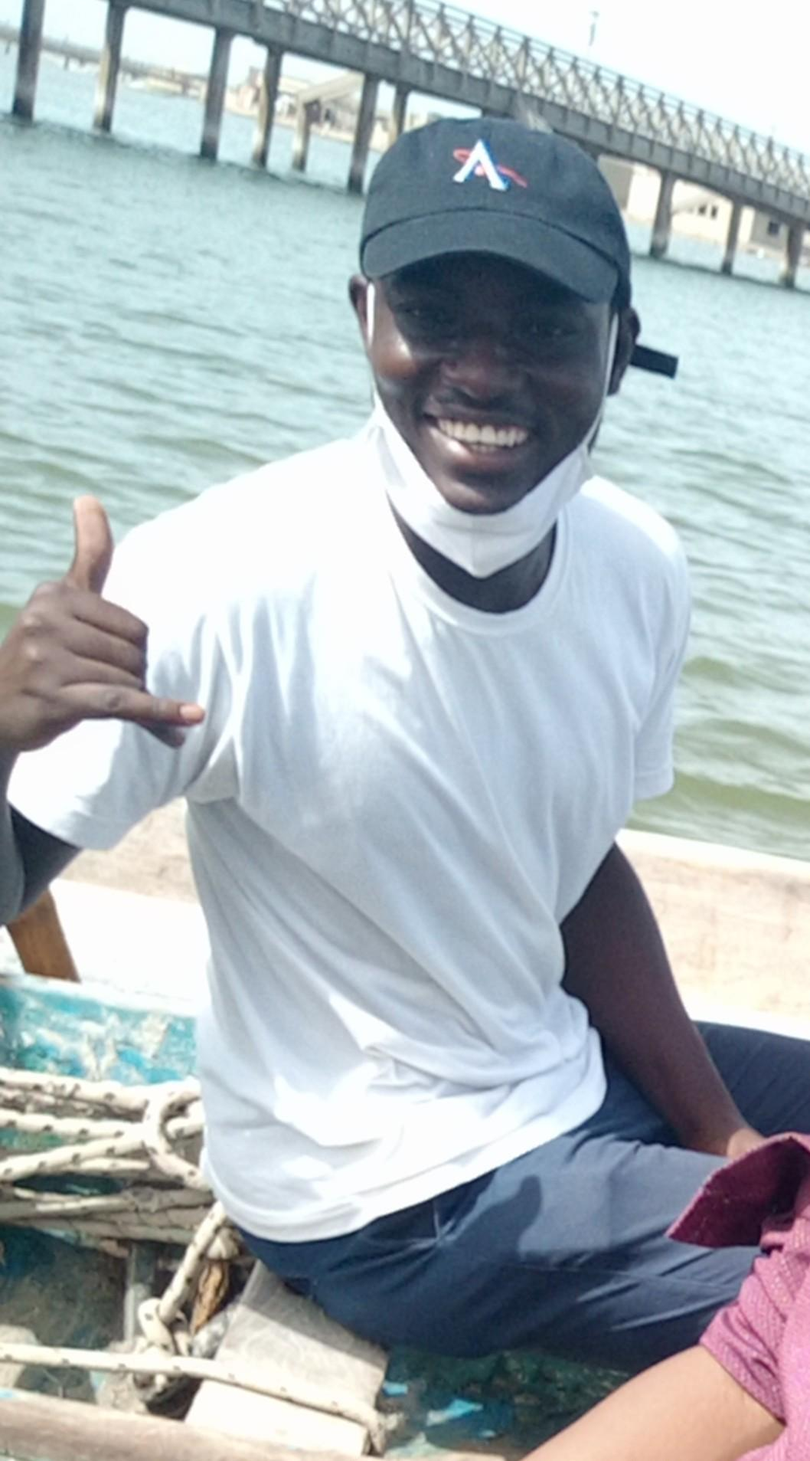Wore Mask Incorrectly: (345, 121, 708, 598)
